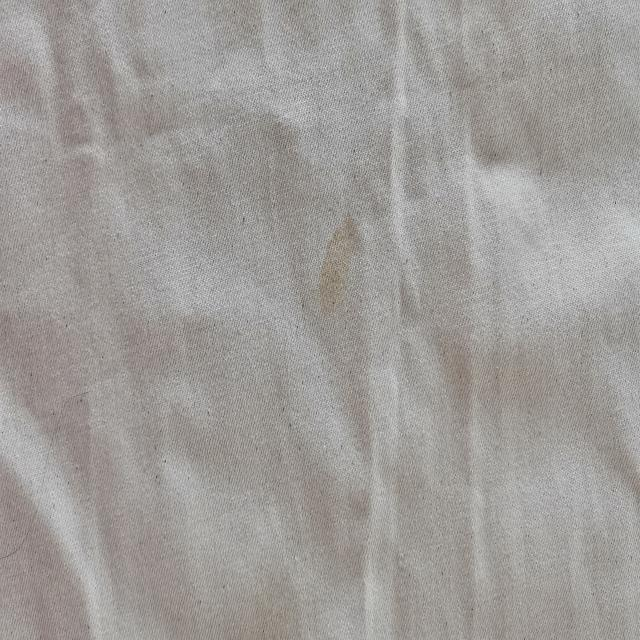taaaches: (316, 210, 365, 315)
